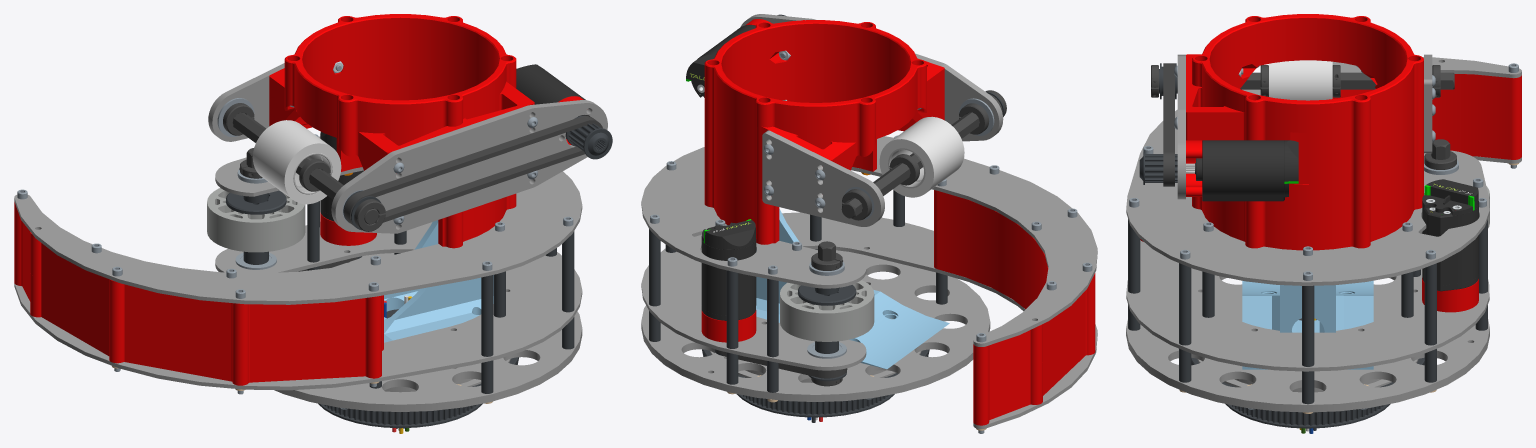
3 renders of one model, left to right at view 1: azimuth 30°, elevation 25°; view 2: azimuth 150°, elevation 25°; view 3: azimuth 270°, elevation 25°, orthographic. The views are drawn at different scales.
Visible parts, largest first — view 1: Part 8, Part 6, 26D0203 Top Hook Plate, 26D0204 Bottom Hook Plate, 26D0301 Motor Side Roller Support Plate, 26D0205 Base Plate, 5mmBelt-95-9mm-15-15, Part 1, 30A 3" Flex, id1687, 2-3/4" Long #10 3/8" Spacer (×4), Kraken X44 Brushless Motor (×2) (+8 smaller); view 2: Part 8, 26D0203 Top Hook Plate, 26D0205 Base Plate, 26D0204 Bottom Hook Plate, Part 6, 26D0302 Roller Support Plate, Kraken X44 Brushless Motor (×2), Part 7, Part 1, 30A 3" Flex, id1687, 2-3/4" Long #10 3/8" Spacer (×3) (+7 smaller); view 3: Part 8, 26D0203 Top Hook Plate, 26D0204 Bottom Hook Plate, 26D0205 Base Plate, Kraken X44 Brushless Motor (×2), Part 7, 2-3/4" Long #10 3/8" Spacer (×7), Part 1, id1687, 5MM-84-15mm-2 flange-, 5mmBelt-95-9mm-15-15, 26D0301 Motor Side Roller Support Plate (+7 smaller).
Part boxes in pixels (<box>): Part 8: <box>269,14,534,248</box>; Part 6: <box>30,232,383,385</box>; 26D0203 Top Hook Plate: <box>14,136,582,304</box>; 26D0204 Bottom Hook Plate: <box>14,222,582,390</box>; 26D0301 Motor Side Roller Support Plate: <box>331,100,607,233</box>; 26D0205 Base Plate: <box>274,253,582,411</box>; 5mmBelt-95-9mm-15-15: <box>344,116,602,225</box>; Part 1: <box>384,220,493,342</box>; 30A 3" Flex: <box>207,188,305,252</box>; id1687: <box>252,120,341,204</box>; 2-3/4" Long #10 3/8" Spacer (×4): <box>307,201,574,356</box>; Kraken X44 Brushless Motor (×2): <box>320,64,589,221</box>; Part 8: <box>704,20,944,244</box>; 26D0203 Top Hook Plate: <box>641,136,1097,346</box>; 26D0205 Base Plate: <box>641,250,990,401</box>; 26D0204 Bottom Hook Plate: <box>641,212,1097,428</box>; Part 6: <box>934,190,1095,395</box>; 26D0302 Roller Support Plate: <box>762,130,884,226</box>; Kraken X44 Brushless Motor (×2): <box>686,25,756,320</box>; Part 7: <box>973,330,1042,425</box>; Part 1: <box>756,208,949,369</box>; 30A 3" Flex: <box>780,280,874,341</box>; id1687: <box>879,116,964,197</box>; 2-3/4" Long #10 3/8" Spacer (×3): <box>649,229,778,357</box>; Part 8: <box>1186,14,1423,250</box>; 26D0203 Top Hook Plate: <box>1126,57,1521,285</box>; 26D0204 Bottom Hook Plate: <box>1126,156,1521,371</box>; 26D0205 Base Plate: <box>1126,275,1489,412</box>; Kraken X44 Brushless Motor (×2): <box>1186,140,1478,291</box>; Part 7: <box>1368,74,1521,159</box>; 2-3/4" Long #10 3/8" Spacer (×7): <box>1128,216,1487,366</box>; Part 1: <box>1242,280,1373,369</box>; id1687: <box>1269,60,1332,100</box>; 5MM-84-15mm-2 flange-: <box>1225,404,1390,428</box>; 5mmBelt-95-9mm-15-15: <box>1163,63,1174,186</box>; 26D0301 Motor Side Roller Support Plate: <box>1177,54,1185,199</box>.
Size of the model in its own units: 0.4134 by 0.3177 by 0.3063.
